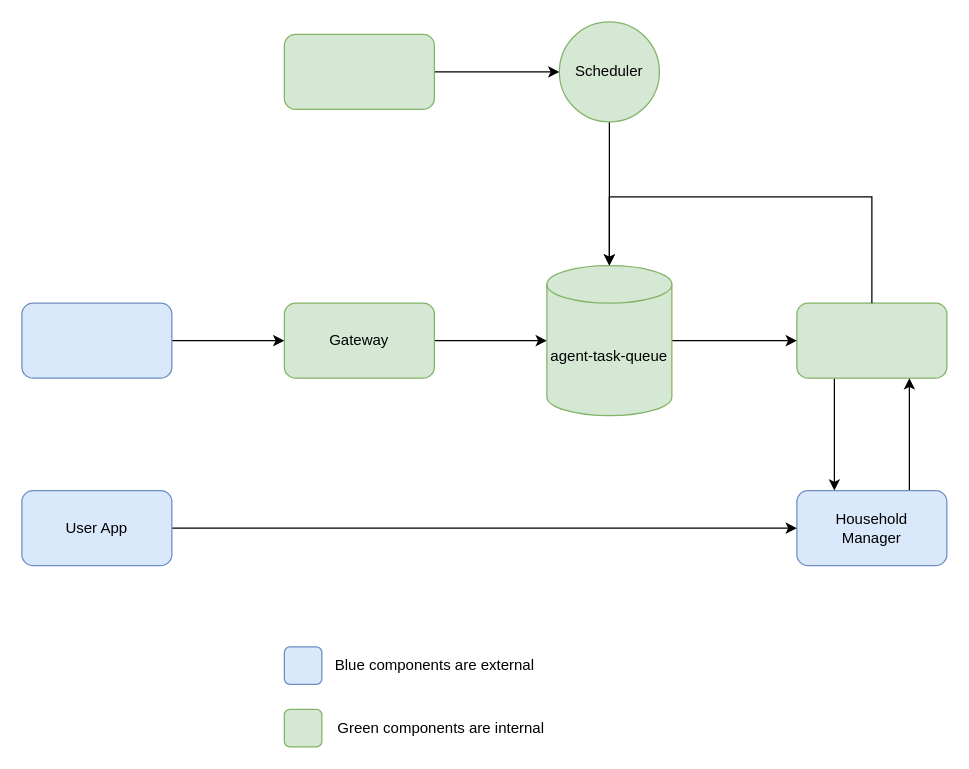
This 969x769 diagram has some shape labels left out. The centre of each missing label's shape, as x and y in pixels:
"Agent" goes at pixel 871 340.
"Scheduler API" goes at pixel 358 71.
"Telegram" goes at pixel 96 340.
